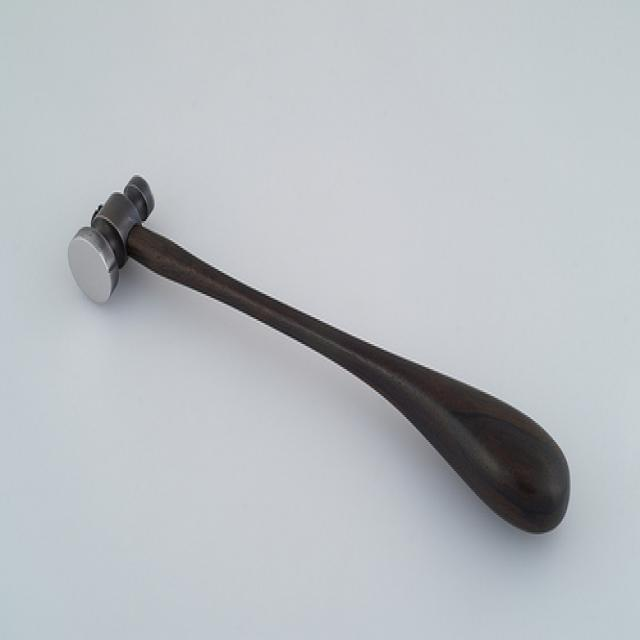hammer: (64, 160, 579, 550)
